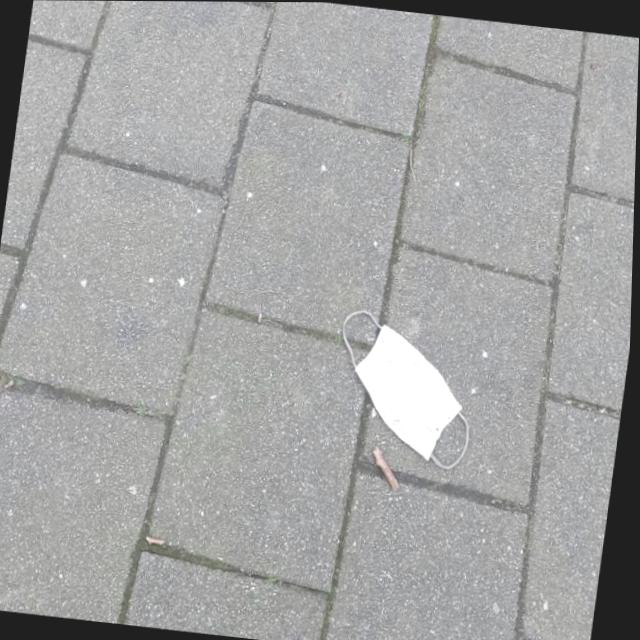Mask: (324, 304, 487, 471)
